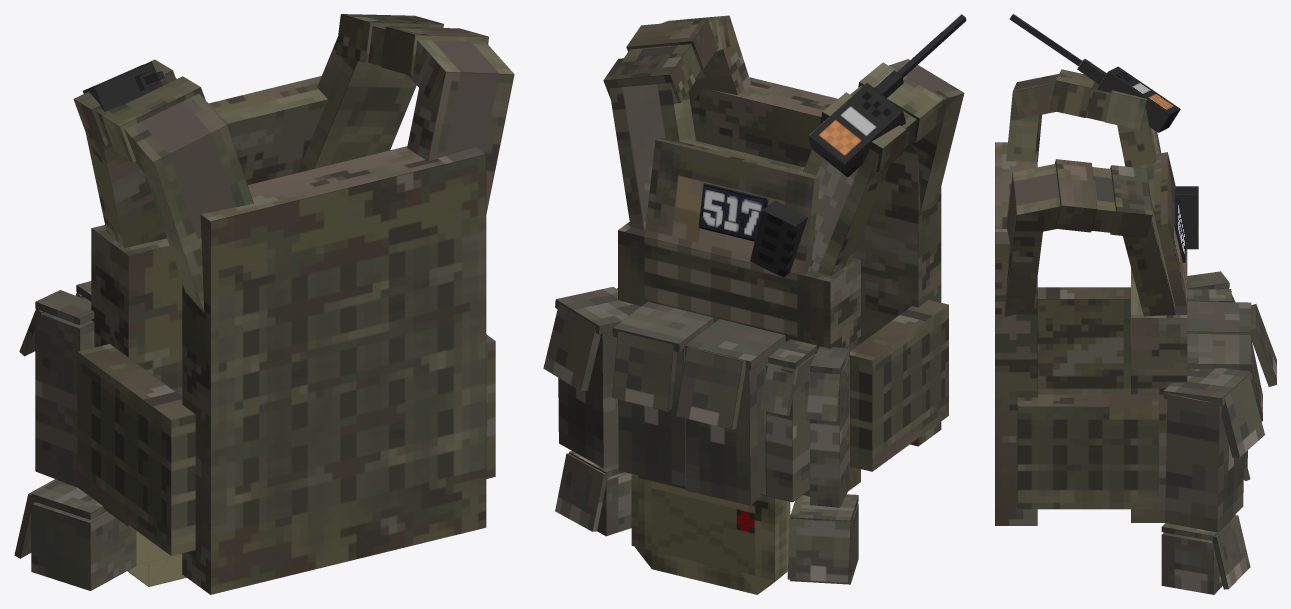
The model's file is horse.obj.
3 renders of one model, left to right at view 1: azimuth 30°, elevation 25°; view 2: azimuth 150°, elevation 25°; view 3: azimuth 270°, elevation 25°, orthographic. The views are drawn at different scales.
Visible parts, largest first — view 1: horse; view 2: horse; view 3: horse.
Boxes of the visible parts, x1,y1,x2,y2 form: horse: [14, 14, 514, 594]; horse: [543, 14, 966, 594]; horse: [995, 14, 1276, 594].
Bounding box in the file's own units: 0.7145 × 1.17 × 0.6227.
